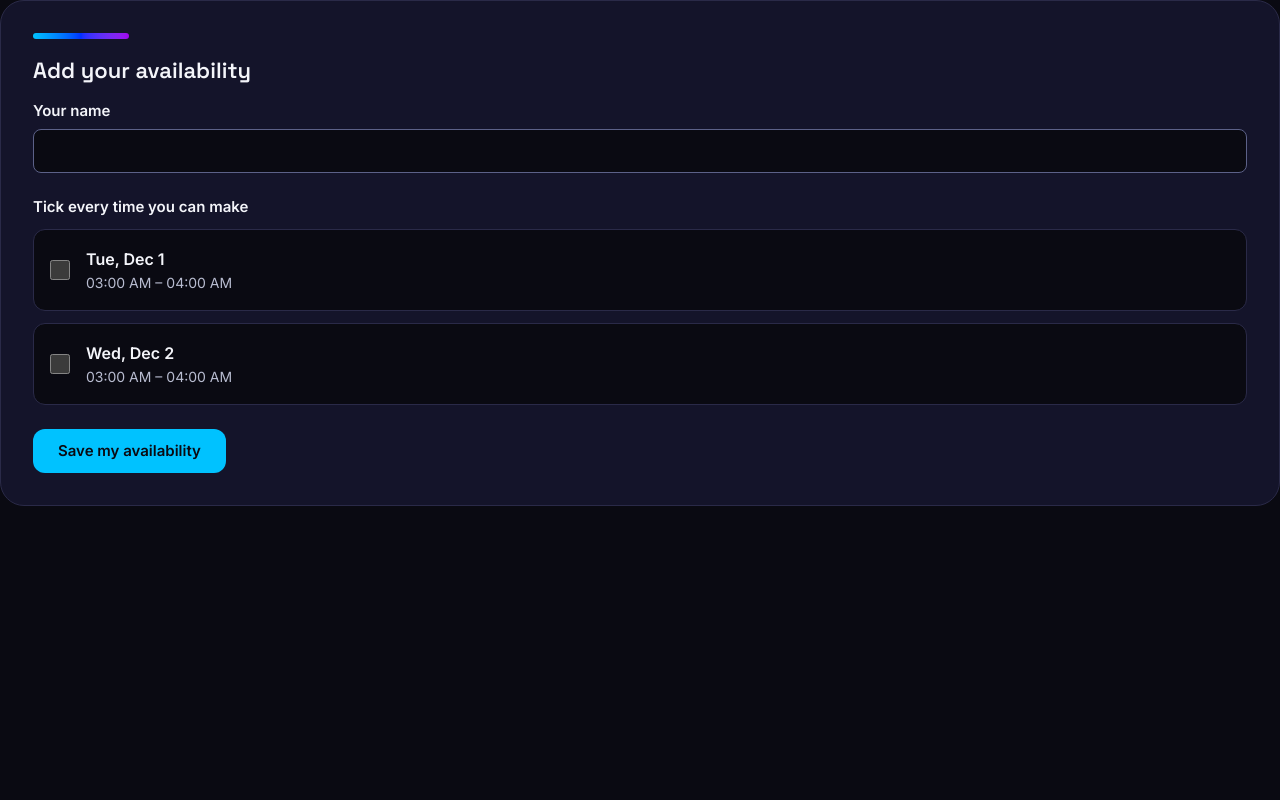
Test case: VoteForm › shows a server error such as a closed poll
This screenshot has width=1280, height=800.
Type "Dee" into the field labelled "Your name".
click(640, 151); type("Dee")  # box x1=33 y1=129 x2=1247 y2=173
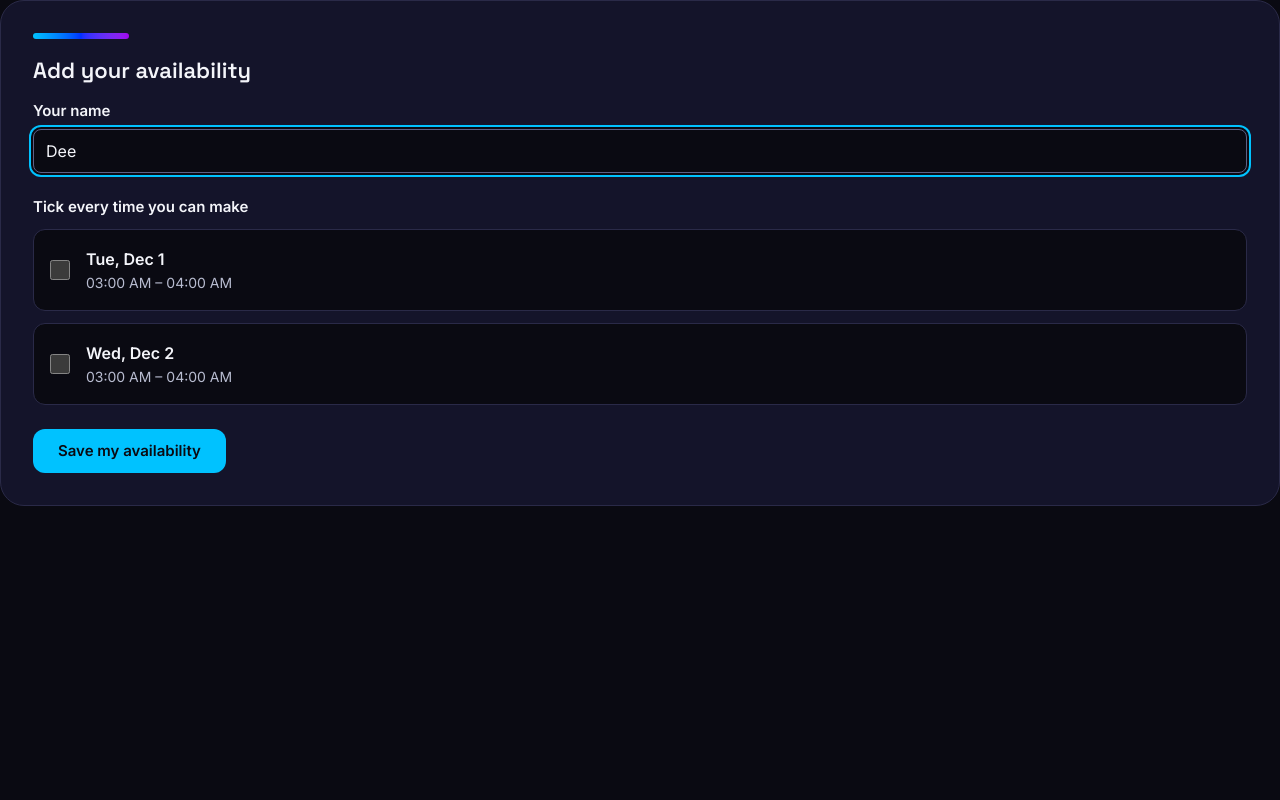
Click the button "Save my availability".
click(129, 451)  # box x1=33 y1=429 x2=226 y2=473
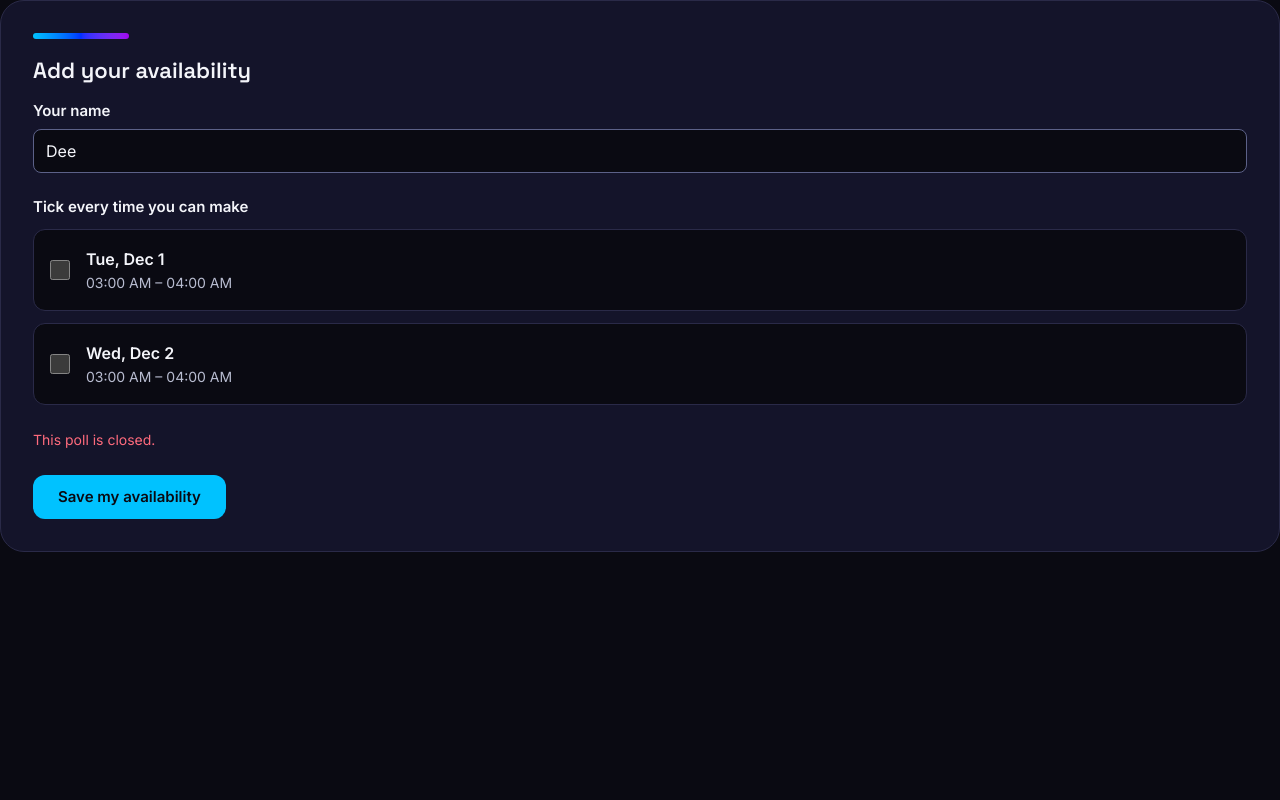
Check: the message reads "This poll is closed.", box x1=33 y1=431 x2=155 y2=448
